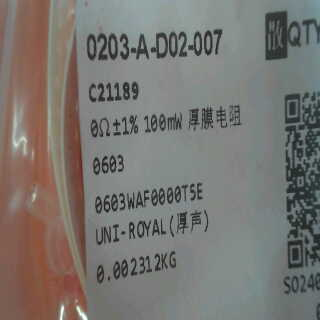0R: (90, 108, 152, 182)
